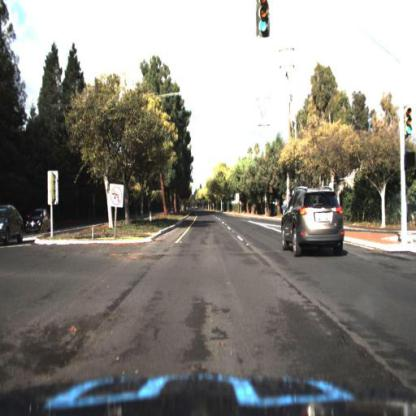car: (282, 186, 346, 259), (1, 204, 26, 246), (27, 209, 52, 235)
